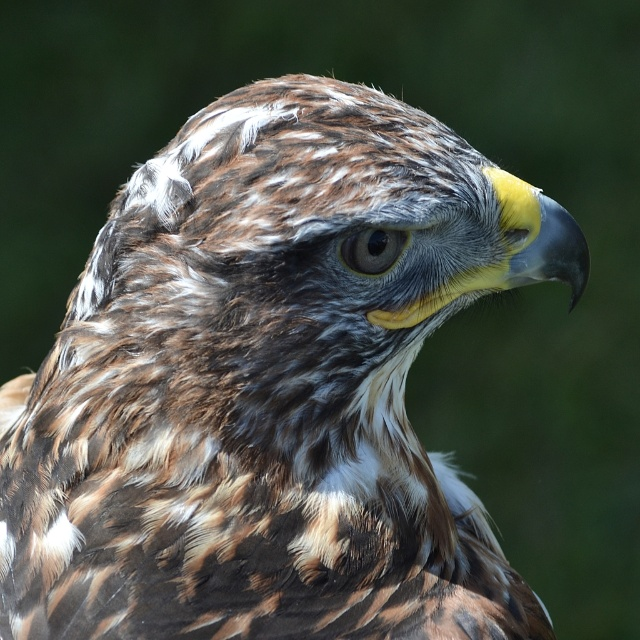Eagle: (0, 68, 597, 640)
